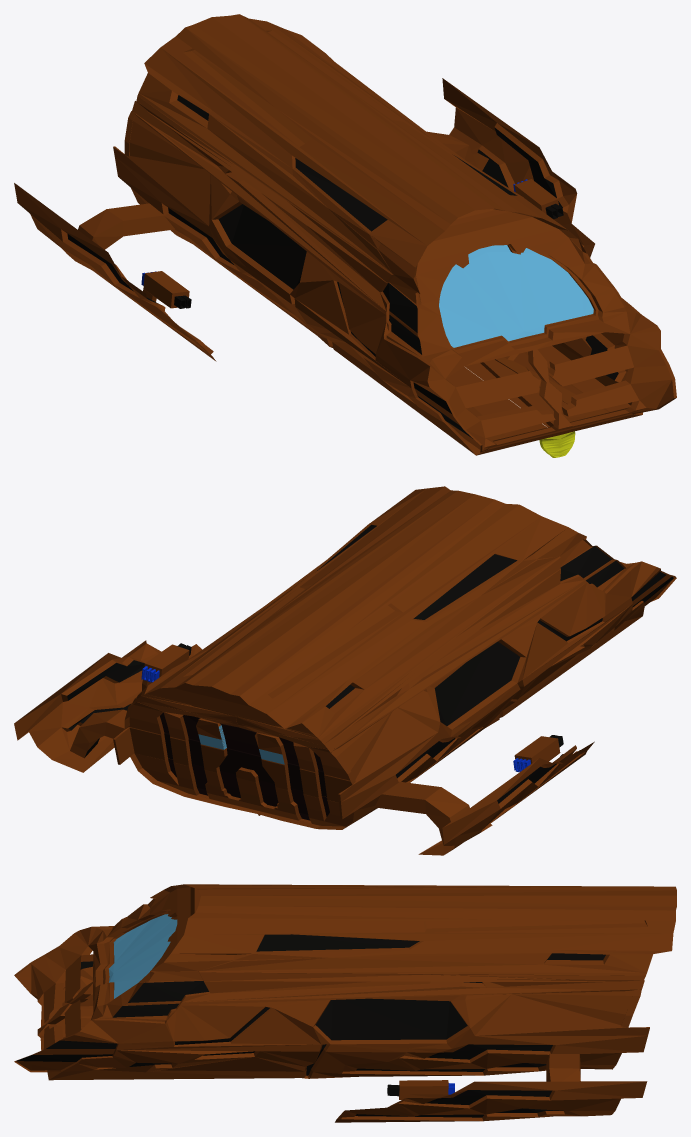
File: Jumper.obj
3 renders of one model, top to bottom at view 1: azimuth 30°, elevation 25°; view 2: azimuth 150°, elevation 25°; view 3: azimuth 270°, elevation 25°, orthographic. The views are drawn at different scales.
Visible parts, largest first — view 1: Core_Cylinder.001, engines_Cylinder.002; view 2: Core_Cylinder.001, engines_Cylinder.002; view 3: Core_Cylinder.001, engines_Cylinder.002.
Boxes of the visible parts, bbox=[...] form: Core_Cylinder.001: bbox=[113, 14, 676, 455]; engines_Cylinder.002: bbox=[14, 78, 594, 361]; Core_Cylinder.001: bbox=[113, 486, 676, 829]; engines_Cylinder.002: bbox=[14, 640, 594, 855]; Core_Cylinder.001: bbox=[14, 884, 676, 1080]; engines_Cylinder.002: bbox=[335, 1053, 647, 1122].
Size of the model in its own units: 8.47 by 3.45 by 12.3.
